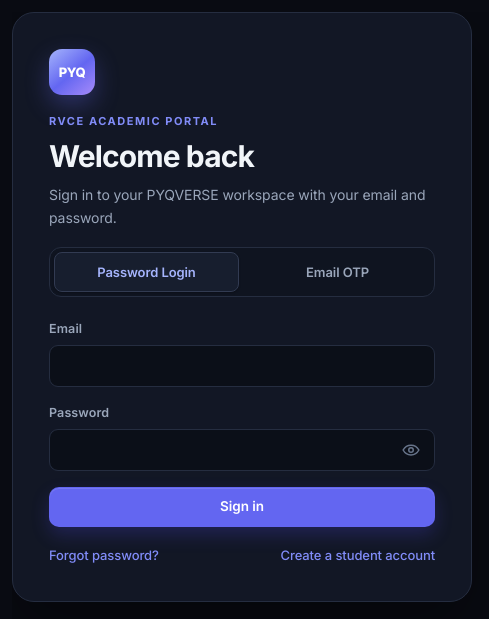
Test: Login flow › stores an admin session and navigates to the admin dashboard
The width and height of the screenshot is (489, 619).
Type "admin@example.com" into the field labelled "Email" at [242, 366], box [49, 345, 435, 387]
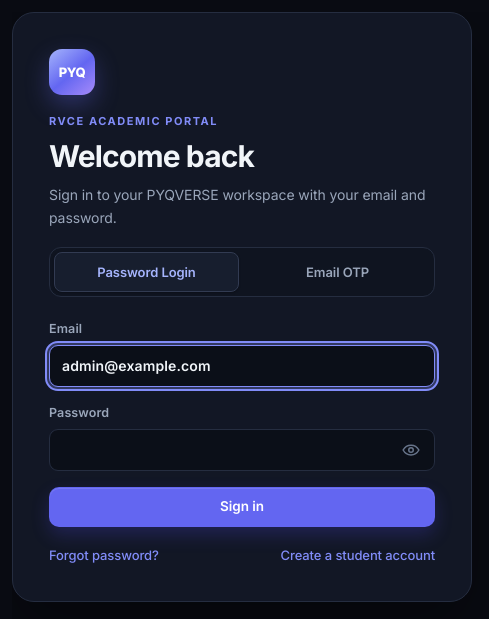
Type "StrongPass1" into the password field labelled "Password" at [242, 450], box [49, 429, 435, 471]
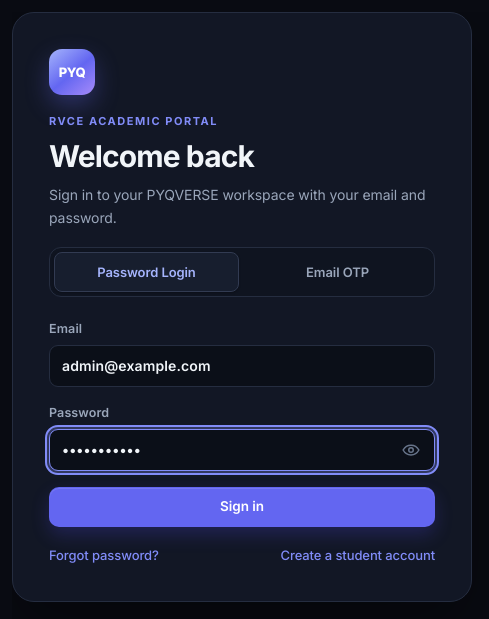
Click the button "Sign in" at [242, 507], box [49, 487, 435, 527]
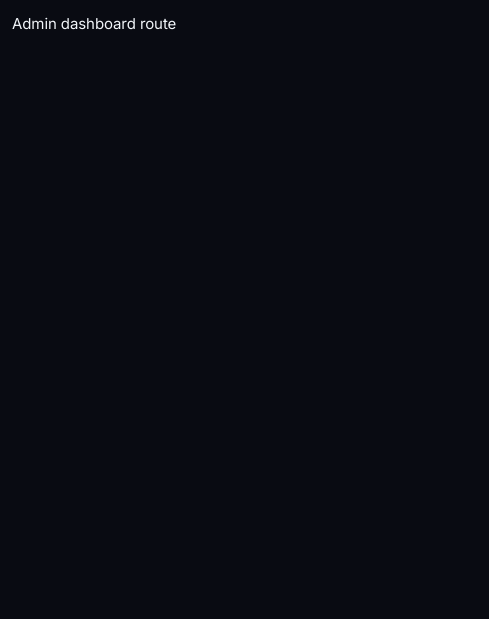
Result: the text "Admin dashboard route" is shown at [12, 14, 176, 33]
